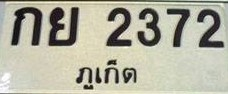txt01: (9, 5, 44, 47)
txt29: (47, 5, 80, 48)
